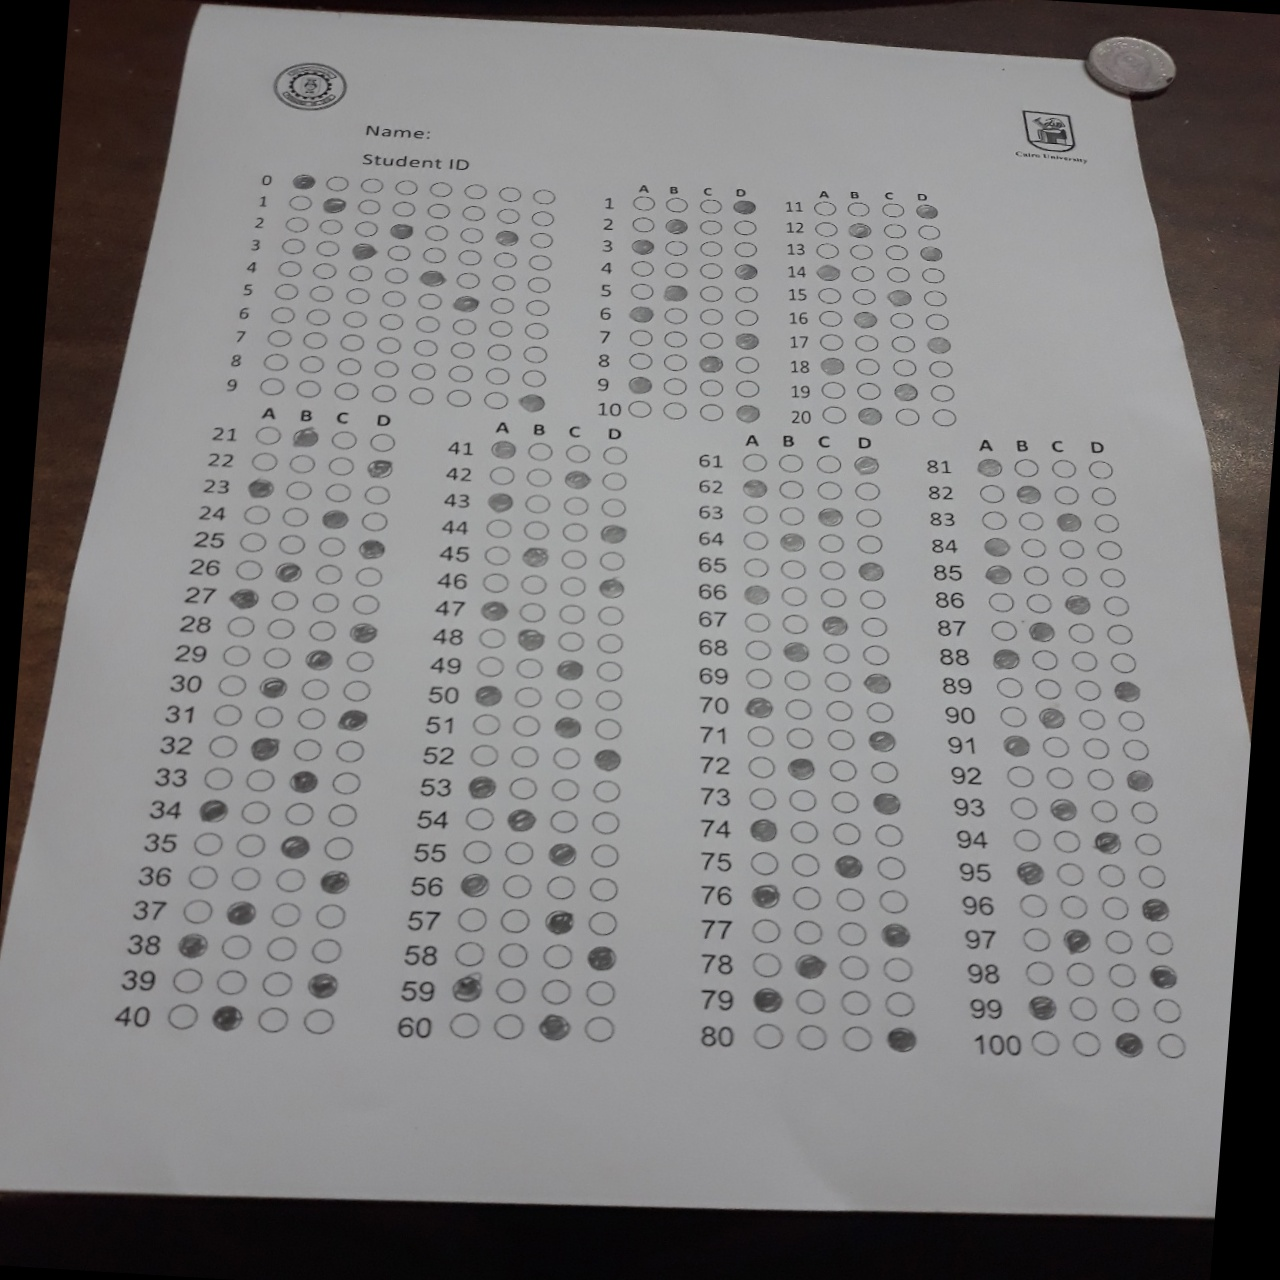not-c: (259, 968, 293, 998), (750, 1022, 785, 1050), (879, 955, 914, 983), (836, 954, 871, 982), (448, 1010, 483, 1039), (265, 935, 300, 964), (219, 934, 254, 962), (179, 896, 215, 924), (265, 900, 300, 928), (794, 1022, 828, 1050), (794, 987, 828, 1015), (754, 951, 788, 979), (749, 918, 783, 946), (790, 917, 824, 945), (835, 920, 869, 948), (877, 886, 911, 914), (835, 884, 869, 912), (788, 851, 822, 879), (828, 818, 862, 846), (256, 1006, 290, 1034), (166, 1003, 200, 1032), (215, 967, 248, 995), (320, 833, 354, 862), (229, 863, 263, 891), (191, 829, 225, 857), (234, 831, 268, 859), (170, 967, 205, 994), (309, 935, 345, 962), (312, 903, 347, 930), (186, 862, 222, 888), (884, 1027, 917, 1055), (839, 989, 872, 1017), (790, 881, 823, 910), (455, 906, 488, 934), (302, 1007, 335, 1035), (274, 866, 307, 894), (872, 821, 906, 847), (747, 784, 781, 811), (787, 784, 821, 811), (829, 787, 863, 813), (866, 758, 900, 785), (583, 978, 617, 1005), (200, 764, 234, 791), (304, 617, 338, 644), (1070, 1029, 1102, 1057), (874, 853, 906, 881), (743, 663, 775, 692), (585, 908, 617, 937), (1087, 796, 1119, 823), (1030, 1029, 1063, 1056), (883, 989, 915, 1016), (825, 754, 858, 781), (502, 840, 535, 867), (497, 942, 530, 969), (452, 941, 485, 968), (539, 978, 572, 1005), (492, 1012, 525, 1039), (282, 801, 315, 828), (291, 735, 324, 762), (251, 701, 284, 728), (294, 703, 327, 730), (298, 675, 331, 702), (216, 670, 248, 697), (267, 587, 300, 614), (308, 588, 341, 615), (348, 590, 381, 617), (352, 563, 384, 590), (316, 533, 349, 560), (788, 818, 822, 844), (583, 1015, 617, 1041), (275, 531, 309, 557), (749, 847, 779, 876), (590, 806, 620, 835), (1143, 930, 1175, 956), (1153, 1032, 1185, 1058), (858, 585, 890, 612), (819, 583, 851, 610), (557, 573, 588, 600), (591, 776, 622, 803), (549, 808, 580, 835), (461, 838, 492, 865), (544, 874, 576, 901), (540, 942, 572, 969), (493, 976, 525, 1003), (240, 797, 272, 824), (207, 733, 239, 760), (213, 701, 245, 728), (343, 646, 375, 673), (265, 614, 297, 641), (233, 554, 265, 581), (1126, 799, 1159, 825), (1050, 829, 1083, 855), (1108, 996, 1141, 1022), (859, 642, 892, 668), (778, 581, 811, 607), (467, 742, 499, 768), (501, 873, 533, 899), (498, 906, 531, 932), (325, 801, 358, 826), (329, 770, 362, 796), (332, 738, 365, 764), (222, 644, 254, 669), (361, 508, 394, 533), (281, 502, 314, 527), (858, 613, 888, 640), (506, 775, 537, 802), (263, 324, 293, 350), (1007, 795, 1039, 821), (1132, 831, 1164, 857), (1136, 863, 1167, 888), (1095, 862, 1126, 887), (1051, 860, 1083, 886), (1056, 894, 1088, 920), (1102, 930, 1133, 955), (1065, 961, 1097, 987), (1150, 998, 1182, 1023), (745, 754, 777, 779), (745, 723, 777, 749), (824, 726, 856, 751), (821, 697, 852, 723), (743, 635, 775, 661), (550, 775, 581, 801), (588, 876, 620, 901), (245, 768, 277, 794), (340, 675, 372, 701), (260, 644, 292, 669), (225, 613, 257, 639), (237, 527, 268, 553), (282, 476, 314, 502), (821, 639, 853, 663), (593, 716, 622, 743), (1012, 828, 1042, 853), (1021, 926, 1051, 952), (865, 699, 896, 724), (821, 669, 851, 695), (779, 611, 810, 636), (463, 805, 493, 831), (588, 843, 619, 869), (1016, 892, 1048, 917), (1098, 896, 1130, 920), (1068, 995, 1099, 1020), (785, 724, 817, 749), (782, 695, 813, 720), (783, 668, 815, 693), (813, 530, 845, 554), (812, 476, 844, 501), (483, 516, 515, 540), (482, 542, 513, 566), (312, 561, 343, 586), (324, 481, 355, 505), (1085, 484, 1119, 506), (326, 452, 355, 478), (1064, 619, 1095, 644), (1042, 734, 1073, 758), (1023, 960, 1054, 985), (1105, 964, 1136, 988), (561, 441, 592, 465), (512, 685, 543, 709), (510, 713, 540, 737), (287, 451, 318, 476), (365, 427, 395, 451), (258, 373, 288, 397), (1107, 651, 1138, 674), (1047, 455, 1078, 478), (1010, 455, 1042, 478), (985, 590, 1016, 613), (1005, 764, 1036, 788), (741, 530, 772, 553), (775, 504, 806, 527), (776, 477, 808, 501), (813, 451, 845, 475), (509, 745, 540, 769), (1121, 738, 1153, 761), (743, 503, 772, 527), (241, 501, 271, 525), (250, 449, 279, 474), (362, 481, 392, 505), (1096, 565, 1126, 588), (1023, 590, 1054, 613), (1029, 647, 1060, 670), (1083, 767, 1114, 790), (598, 469, 628, 492), (595, 495, 626, 518), (551, 745, 581, 769), (556, 629, 586, 653), (558, 602, 588, 626), (486, 463, 517, 486), (523, 518, 553, 542), (478, 572, 509, 595), (518, 572, 549, 595), (517, 599, 547, 622), (515, 655, 545, 679), (471, 713, 502, 736), (282, 477, 313, 501), (1084, 457, 1116, 479), (1092, 539, 1124, 561), (993, 675, 1024, 697), (1098, 595, 1131, 617), (254, 422, 282, 447), (331, 427, 359, 451), (1073, 678, 1102, 701), (1080, 736, 1109, 760), (1044, 765, 1074, 789), (743, 610, 772, 633), (777, 556, 806, 579), (600, 443, 629, 467), (597, 549, 626, 572), (595, 632, 625, 655), (594, 687, 624, 710), (553, 686, 583, 709), (478, 627, 508, 651), (260, 348, 290, 372), (384, 239, 414, 263), (1091, 512, 1122, 535), (1055, 537, 1085, 559), (1058, 566, 1089, 588), (1016, 509, 1047, 531), (988, 619, 1019, 641), (1069, 648, 1099, 670), (1032, 678, 1062, 700), (998, 704, 1028, 727), (853, 506, 884, 529), (851, 481, 881, 503), (772, 451, 803, 474), (740, 451, 770, 474), (592, 659, 622, 681), (558, 547, 588, 570), (524, 440, 554, 462), (523, 467, 553, 489), (523, 492, 553, 515), (474, 655, 504, 678), (275, 256, 306, 278), (298, 350, 328, 373), (392, 176, 422, 198), (1103, 622, 1135, 644), (1116, 710, 1148, 731), (973, 482, 1005, 503), (980, 508, 1012, 529), (1021, 565, 1053, 586), (852, 535, 884, 556), (270, 280, 301, 301), (741, 557, 769, 580), (597, 604, 625, 627), (1077, 709, 1107, 731), (817, 559, 846, 581), (560, 519, 590, 542), (561, 493, 591, 516), (302, 327, 332, 349), (309, 259, 339, 281), (377, 309, 407, 332), (626, 349, 655, 372), (1020, 536, 1050, 557), (284, 193, 314, 215), (300, 306, 331, 327), (309, 237, 341, 257), (331, 381, 362, 401), (376, 333, 404, 355), (383, 263, 411, 285), (731, 282, 760, 305), (1051, 483, 1081, 504), (343, 284, 373, 305), (372, 358, 401, 379), (380, 287, 409, 308), (628, 280, 658, 301), (279, 236, 309, 256), (305, 281, 335, 301), (320, 172, 350, 192), (340, 307, 370, 327), (336, 332, 367, 352), (335, 356, 366, 376), (849, 260, 876, 282), (370, 382, 399, 403), (627, 326, 655, 347), (628, 257, 656, 278), (733, 306, 761, 327), (267, 304, 297, 324), (281, 215, 311, 234), (295, 377, 325, 397), (314, 215, 343, 234), (410, 338, 440, 358), (625, 399, 654, 418), (631, 190, 660, 210), (392, 199, 418, 220), (855, 355, 881, 376), (850, 285, 877, 306), (931, 406, 958, 427), (450, 316, 478, 336), (520, 343, 549, 363), (483, 392, 511, 411), (406, 386, 434, 406), (629, 215, 658, 234), (484, 342, 513, 361), (483, 367, 512, 386), (662, 352, 688, 373), (853, 332, 879, 353), (926, 358, 952, 379), (928, 382, 954, 403), (458, 202, 485, 222), (491, 248, 518, 268), (421, 244, 448, 264), (447, 365, 474, 384), (697, 401, 724, 421), (733, 354, 760, 374), (812, 240, 839, 260), (892, 406, 919, 425), (356, 175, 384, 193), (495, 186, 523, 205), (490, 275, 518, 294), (485, 319, 513, 338), (518, 369, 546, 388), (449, 340, 477, 359), (409, 360, 437, 379), (444, 388, 472, 407), (663, 375, 688, 396), (661, 400, 686, 421), (887, 309, 912, 331), (354, 197, 383, 215), (352, 219, 381, 237), (347, 265, 376, 282), (496, 206, 522, 226), (422, 222, 448, 241), (455, 270, 481, 290), (697, 282, 723, 302), (661, 327, 687, 347), (697, 377, 723, 397), (734, 377, 760, 397), (856, 380, 881, 400), (924, 311, 949, 331), (425, 179, 452, 198), (529, 210, 556, 229), (527, 230, 554, 248), (454, 248, 481, 267), (525, 274, 552, 293), (523, 299, 550, 318), (413, 315, 440, 334), (522, 320, 549, 339), (697, 306, 724, 325), (810, 198, 837, 217), (812, 219, 839, 238), (816, 285, 843, 304), (817, 332, 844, 350), (819, 380, 846, 399), (821, 406, 847, 424), (888, 358, 915, 376), (731, 240, 760, 258), (731, 217, 760, 234), (697, 331, 722, 350), (462, 182, 488, 200), (532, 185, 558, 204), (425, 200, 451, 219), (457, 224, 483, 243), (526, 252, 552, 271), (489, 295, 515, 314), (416, 292, 442, 311), (697, 261, 723, 280), (660, 306, 686, 325), (890, 334, 915, 353), (662, 196, 689, 213), (816, 309, 843, 327), (879, 199, 906, 217), (914, 222, 941, 239), (881, 222, 908, 239), (919, 266, 946, 284), (884, 265, 911, 282), (697, 218, 726, 234), (697, 239, 726, 256), (663, 238, 689, 256), (849, 241, 874, 259), (883, 243, 908, 260), (921, 288, 947, 306), (697, 198, 724, 215), (845, 200, 872, 217), (663, 260, 688, 277)
taken-c: (206, 1001, 248, 1036), (461, 769, 499, 799), (547, 714, 586, 744), (876, 922, 915, 952), (788, 952, 828, 981), (454, 869, 493, 898), (1089, 828, 1126, 858), (835, 1024, 873, 1054), (533, 1013, 572, 1042), (448, 975, 486, 1005), (546, 839, 585, 869), (591, 573, 629, 602), (483, 486, 522, 516), (360, 452, 399, 482), (285, 422, 324, 451), (243, 469, 281, 498), (316, 503, 355, 532), (347, 621, 386, 651), (301, 644, 340, 673), (253, 674, 292, 703), (245, 731, 284, 761), (285, 769, 324, 798), (191, 794, 230, 823), (277, 835, 315, 864), (222, 898, 260, 927), (332, 704, 370, 734), (316, 869, 355, 898), (474, 595, 513, 624), (556, 465, 595, 493), (350, 535, 390, 563), (753, 985, 790, 1014), (594, 523, 632, 552), (270, 559, 307, 588), (170, 932, 207, 961), (381, 217, 418, 246), (542, 908, 580, 937), (504, 806, 543, 835), (588, 744, 627, 772), (469, 683, 508, 712), (509, 622, 547, 651), (516, 540, 554, 568), (223, 581, 261, 610), (306, 971, 345, 999), (583, 945, 619, 974), (554, 654, 591, 683), (515, 389, 549, 417), (1000, 733, 1035, 760), (1035, 704, 1070, 731), (745, 881, 781, 908), (1058, 590, 1092, 617), (1146, 964, 1182, 989), (1061, 927, 1096, 953), (1013, 858, 1048, 884), (981, 563, 1016, 588), (743, 581, 778, 607), (867, 729, 903, 755), (1124, 765, 1157, 792), (1110, 1026, 1144, 1051), (988, 647, 1022, 673), (1024, 620, 1058, 646), (1010, 481, 1044, 506), (981, 533, 1015, 559), (849, 451, 883, 477), (853, 557, 887, 583), (811, 502, 845, 527), (742, 475, 776, 501), (776, 639, 810, 665), (856, 669, 890, 695), (744, 697, 778, 723), (784, 757, 818, 783), (867, 788, 901, 813), (835, 855, 869, 880), (287, 168, 321, 193), (972, 456, 1007, 481), (816, 613, 851, 638), (1141, 898, 1173, 924), (1028, 996, 1061, 1022), (1048, 798, 1081, 824), (449, 292, 482, 318), (413, 264, 445, 290), (1112, 680, 1146, 704), (1051, 508, 1085, 532), (747, 816, 781, 840), (888, 379, 922, 403), (815, 259, 845, 286), (491, 225, 523, 251), (729, 400, 762, 424), (843, 217, 876, 241), (921, 332, 954, 356), (629, 233, 663, 257), (731, 329, 765, 353), (728, 260, 762, 284), (731, 191, 765, 215), (813, 353, 847, 376), (489, 437, 518, 464), (626, 299, 659, 322), (660, 217, 693, 240), (855, 404, 887, 428), (625, 372, 653, 399), (316, 193, 350, 216), (847, 308, 881, 331), (347, 241, 380, 264), (662, 281, 695, 304), (694, 354, 727, 376), (881, 287, 914, 309), (910, 241, 942, 264), (912, 200, 944, 222)
